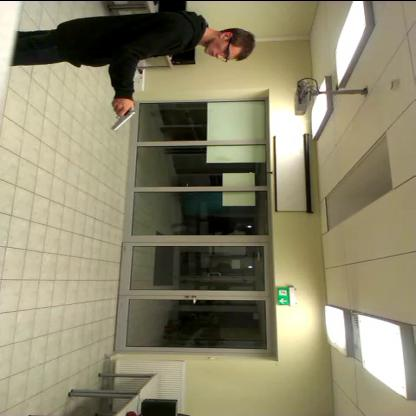Pistol: (100, 100, 140, 132)
